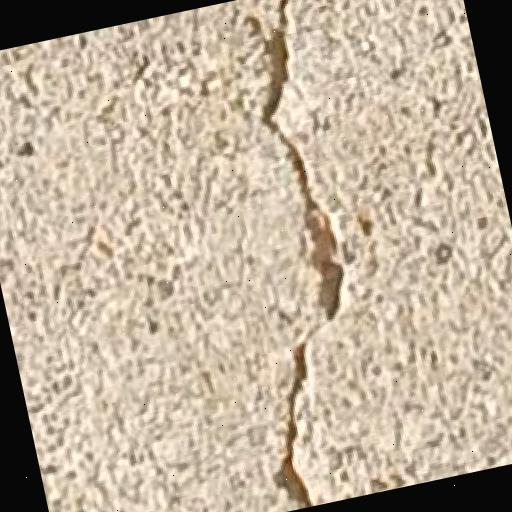spalling: (246, 0, 365, 498)
